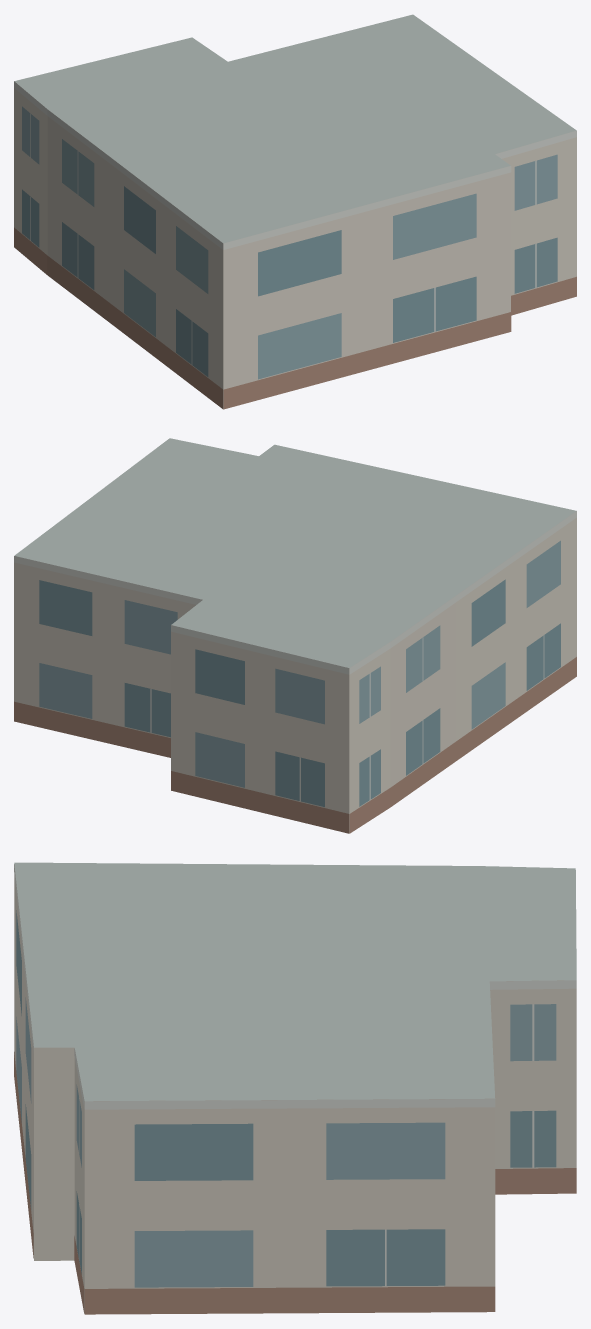
File: survey-upis-32473579.glb
The picture shows the model from 3 angles, top to bottom: view 1: azimuth 30°, elevation 25°; view 2: azimuth 150°, elevation 25°; view 3: azimuth 270°, elevation 25°; orthographic projection. The views are drawn at different scales.
Visible parts, largest first — view 1: survey-upis-32473579.tmp; view 2: survey-upis-32473579.tmp; view 3: survey-upis-32473579.tmp.
Boxes of the visible parts, x1,y1,x2,y2 form: survey-upis-32473579.tmp: (14, 14, 576, 409); survey-upis-32473579.tmp: (14, 438, 576, 833); survey-upis-32473579.tmp: (14, 862, 576, 1314).
Size of the model in its own units: 14.65 by 6.1 by 14.6.
